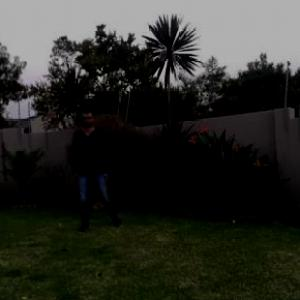follow: (74, 104, 110, 226)
